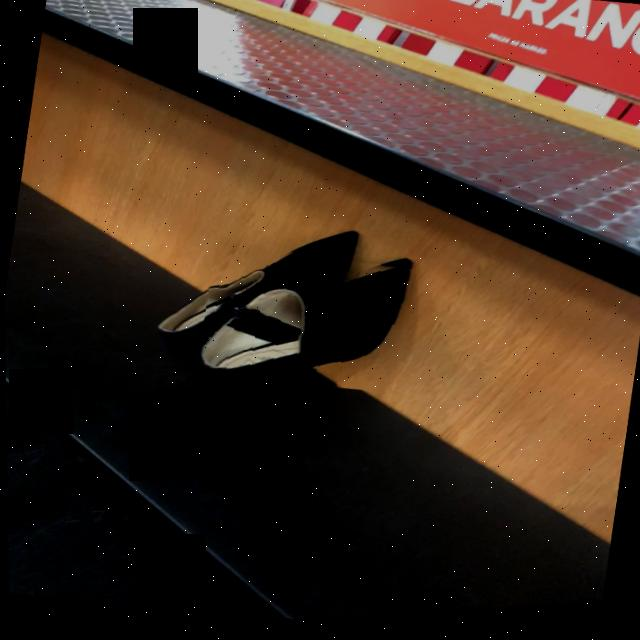shoe: (197, 269, 411, 383)
